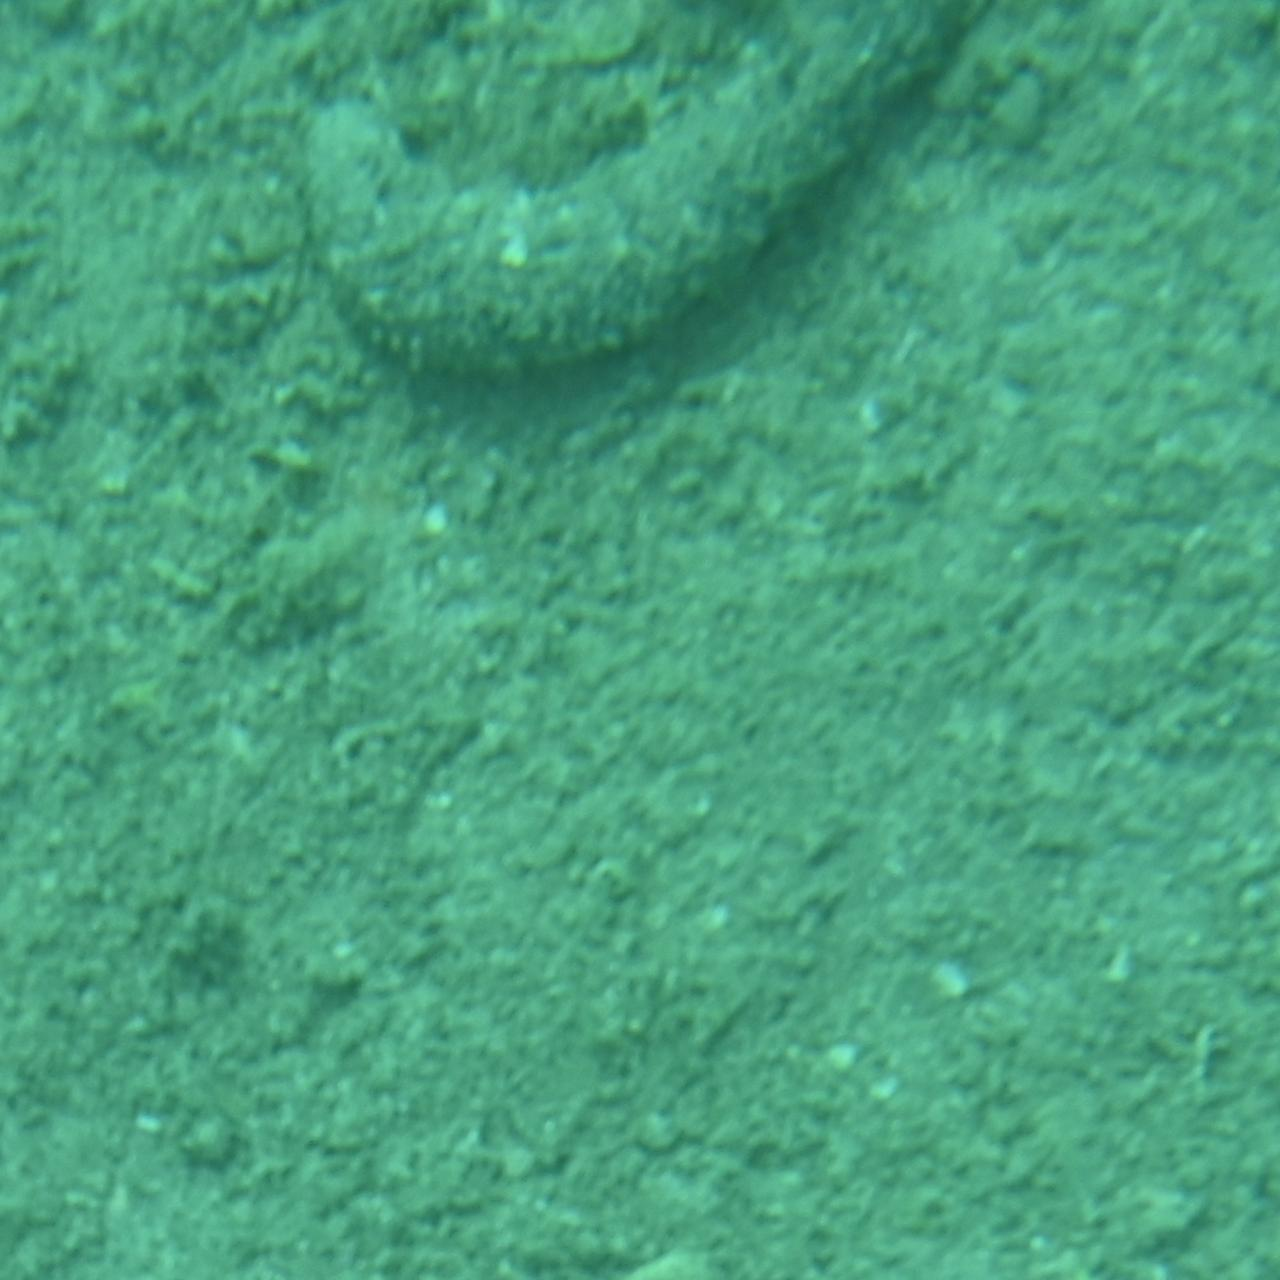Holothuria tubulosa: (298, 0, 982, 408)
